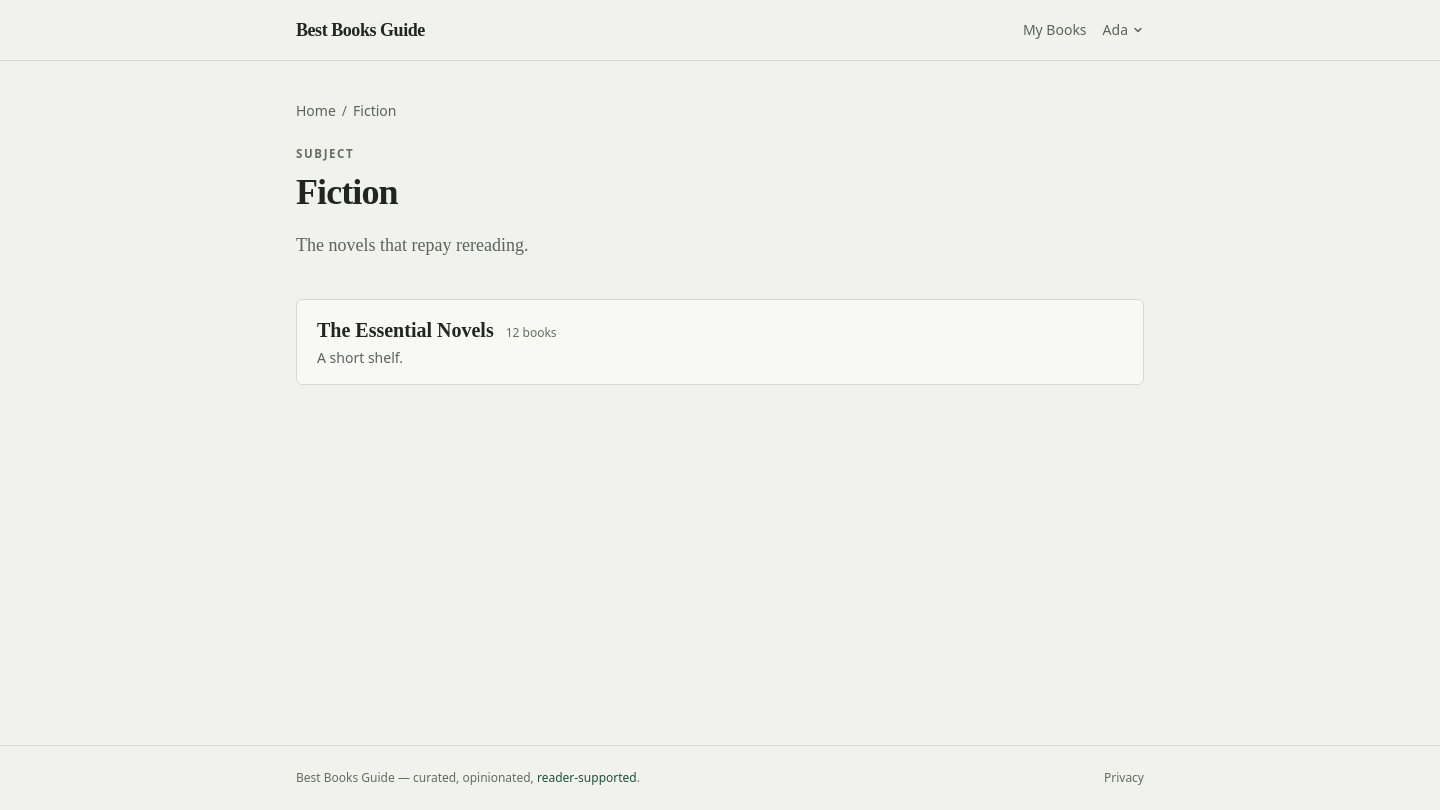
it: SubjectPage › greets a signed-in reader in the header
Expected: the button "sign out" is not shown
Click the button "Ada". click: (1123, 30)
box: [1103,20,1144,40]
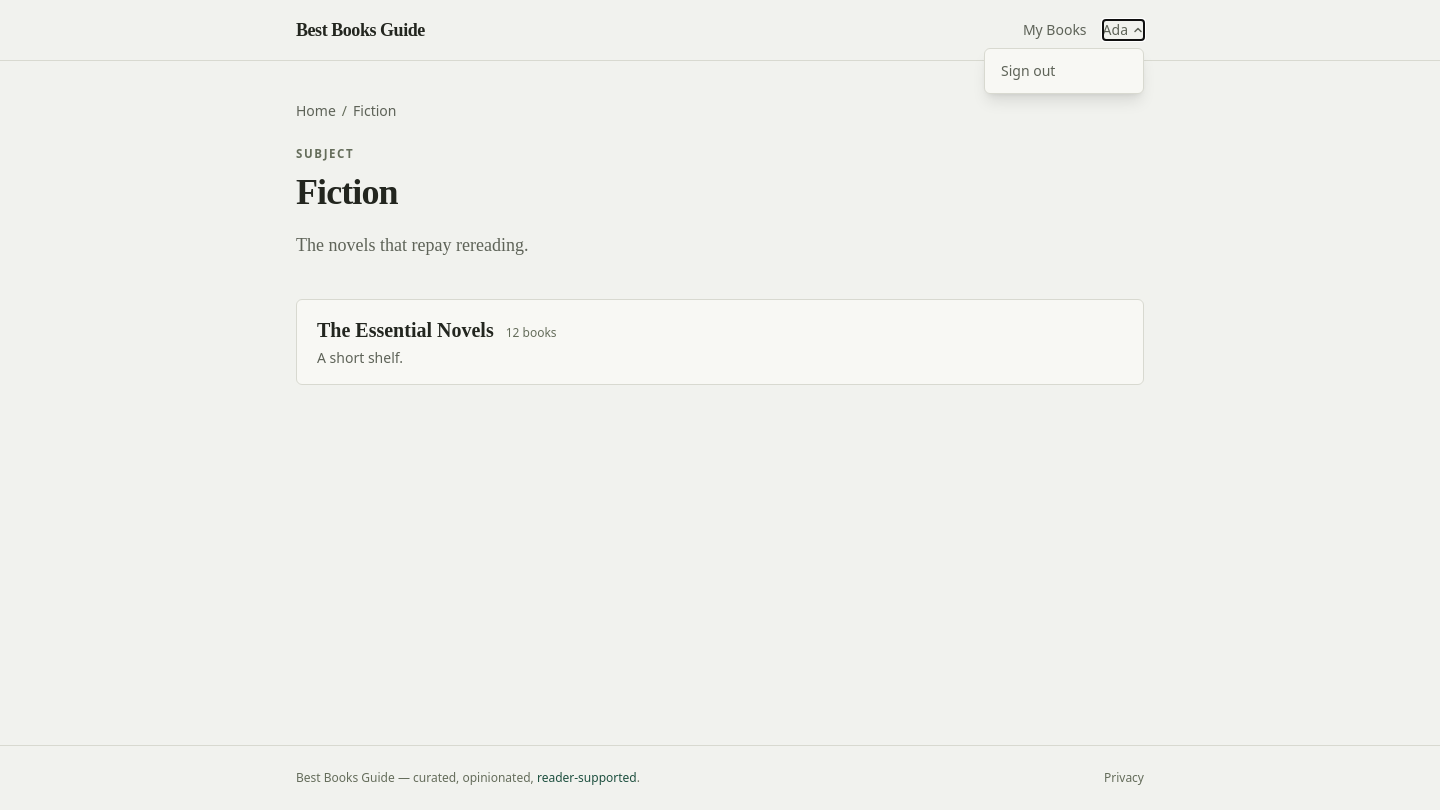
Now the button "Sign out" is shown, box [985,53,1143,89]
